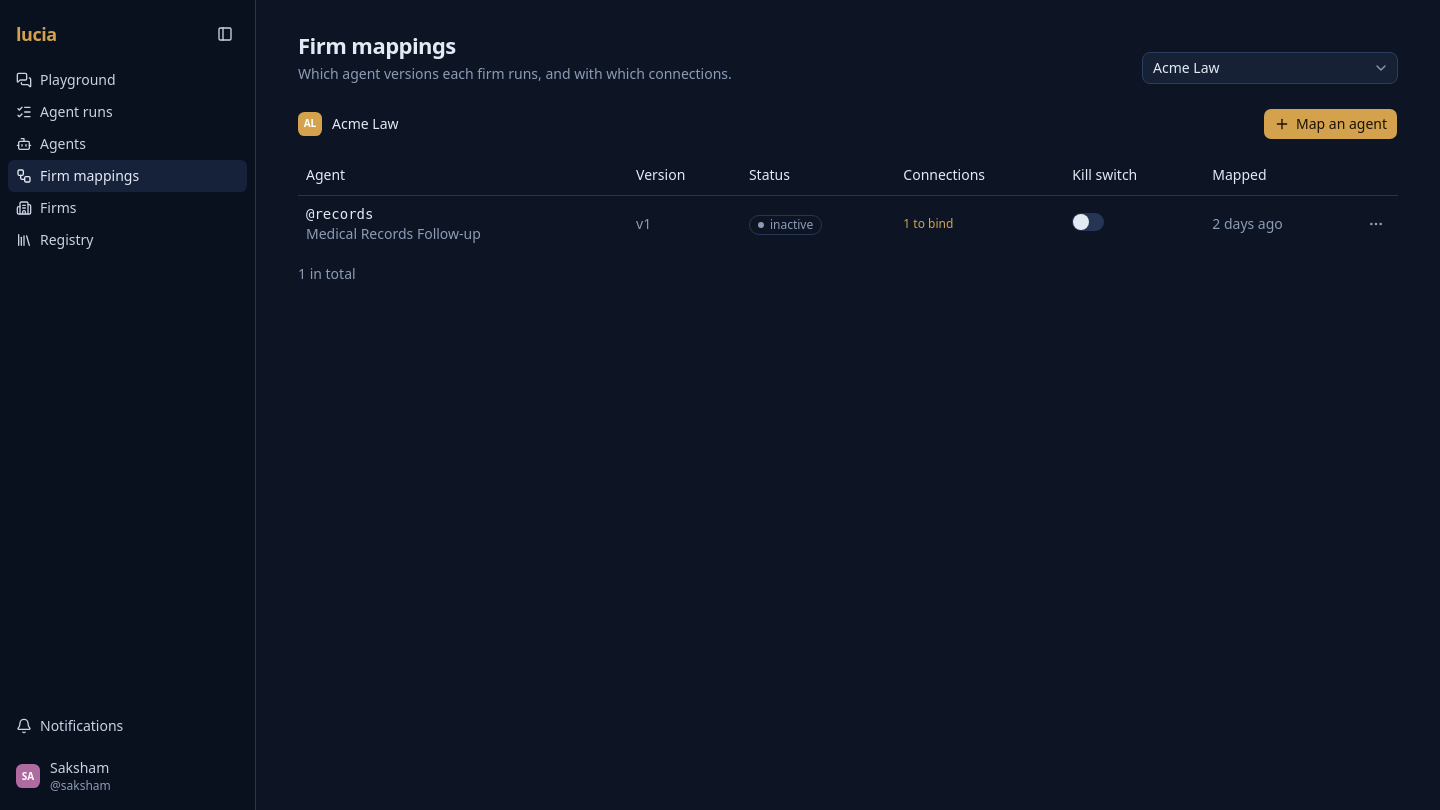
Scenario: create mapping › can't turn on until every connection is bound
Click the button "Map an agent". click: {"x": 1330, "y": 124}
box: [1263, 108, 1398, 140]
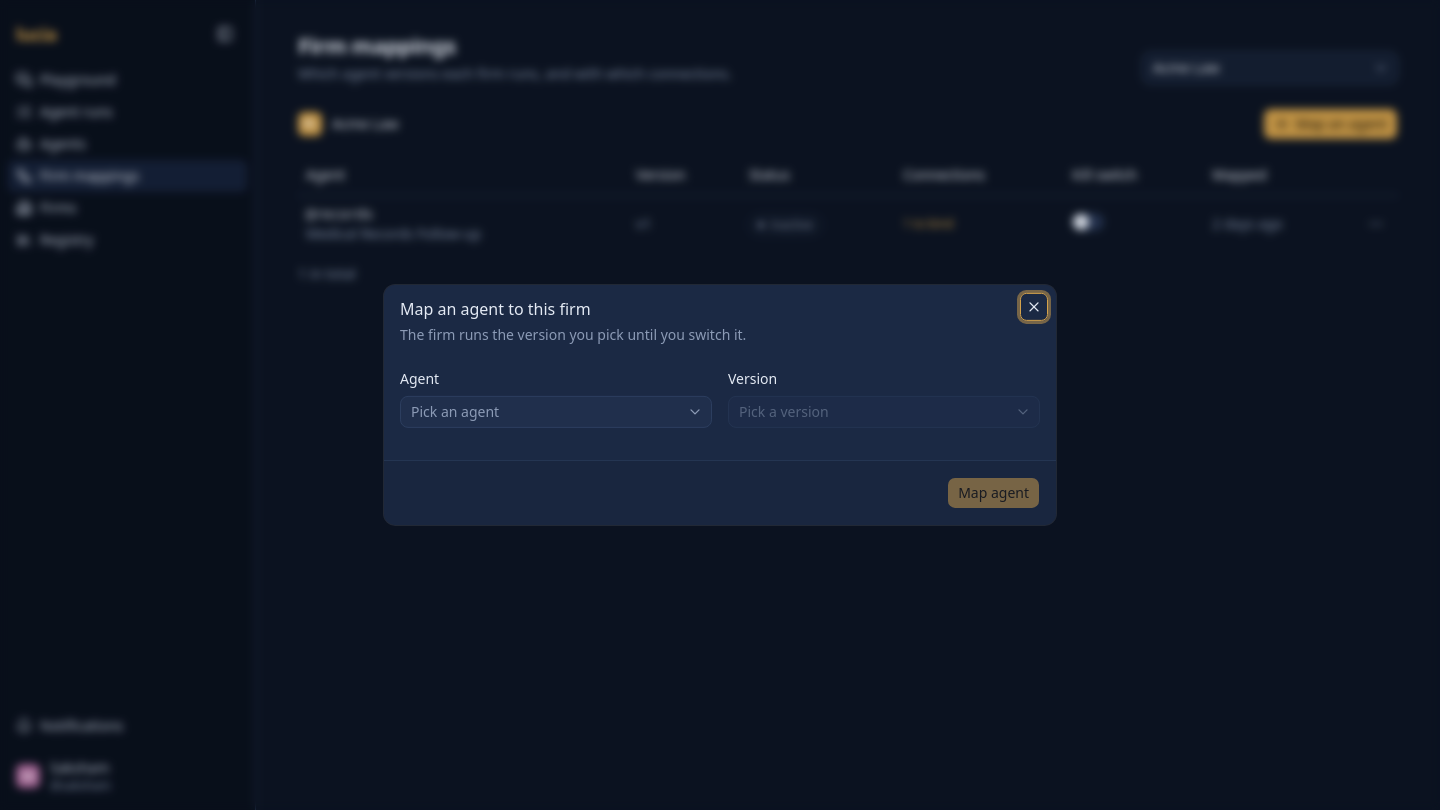
Click the dropdown labelled "agent". click: {"x": 455, "y": 412}
box: [400, 396, 712, 428]
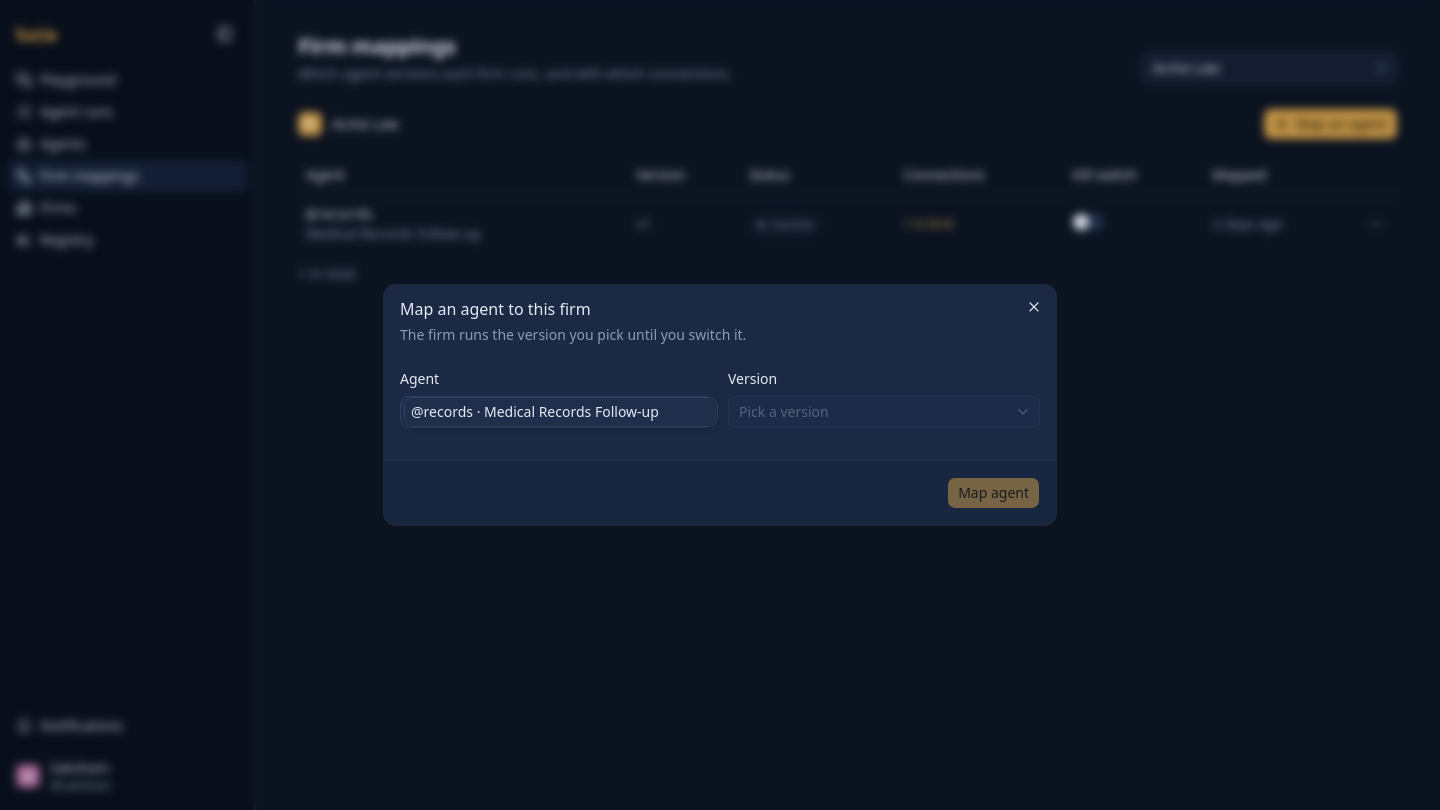
Click the option "@records · Medical Records Follow-up". click: {"x": 561, "y": 412}
box: [405, 398, 717, 426]
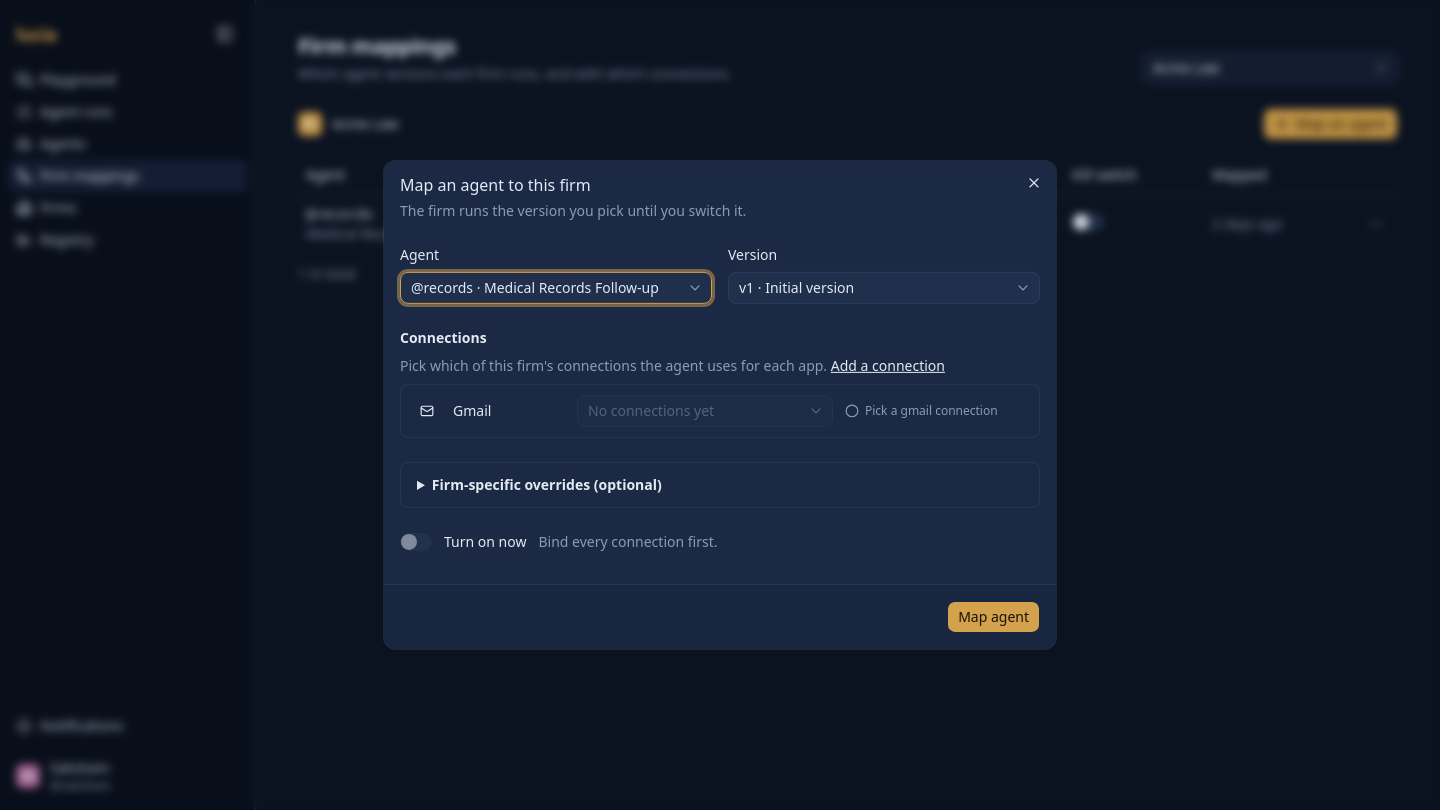
Check: the text "Pick a gmail connection" is shown, box [845, 403, 998, 419]
Check: the text "Bind every connection first." is shown, box [538, 532, 718, 552]
